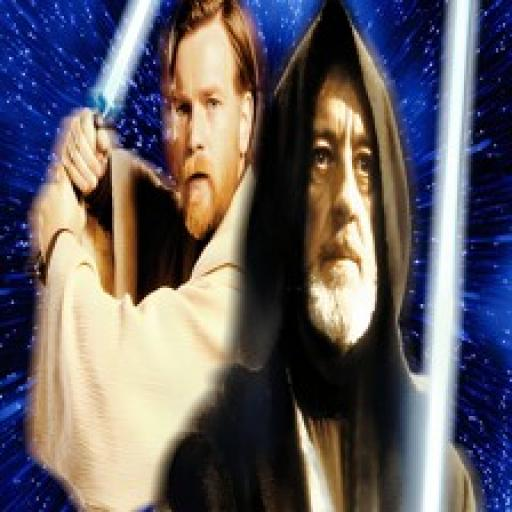human: (168, 3, 501, 512), (29, 0, 269, 512)
lightsaber: (393, 2, 478, 512), (32, 1, 164, 278)
